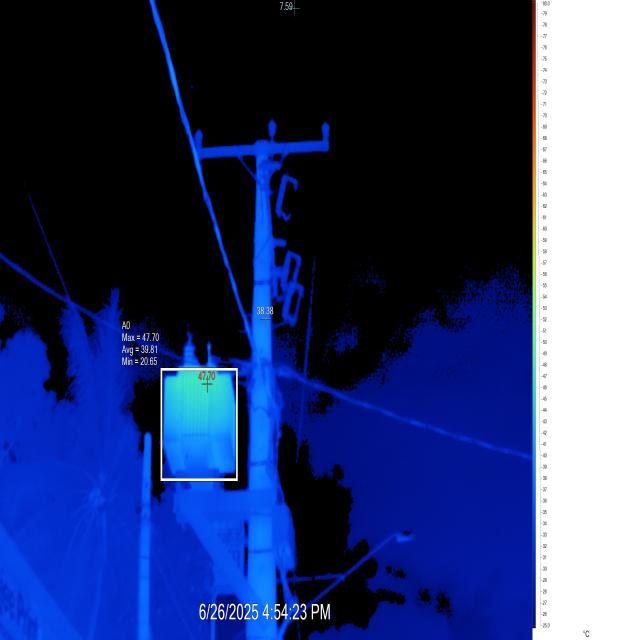Transformer: (0, 0, 535, 639)
